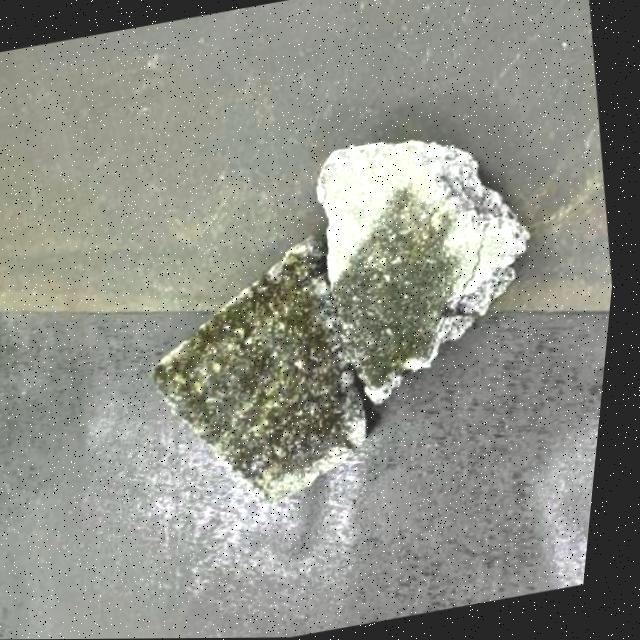Road Debris: (116, 234, 396, 521), (339, 172, 496, 393)
